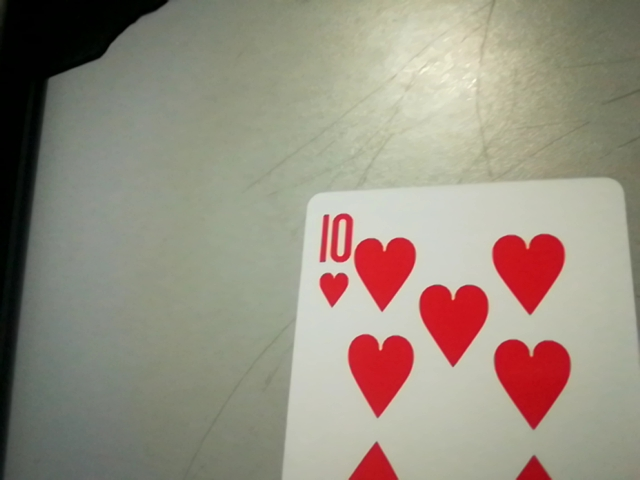hx 10: (303, 203, 356, 315)
